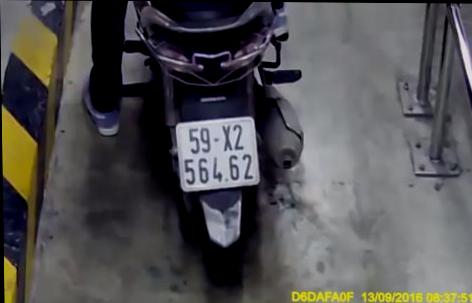License_Plate: (170, 112, 265, 197)
